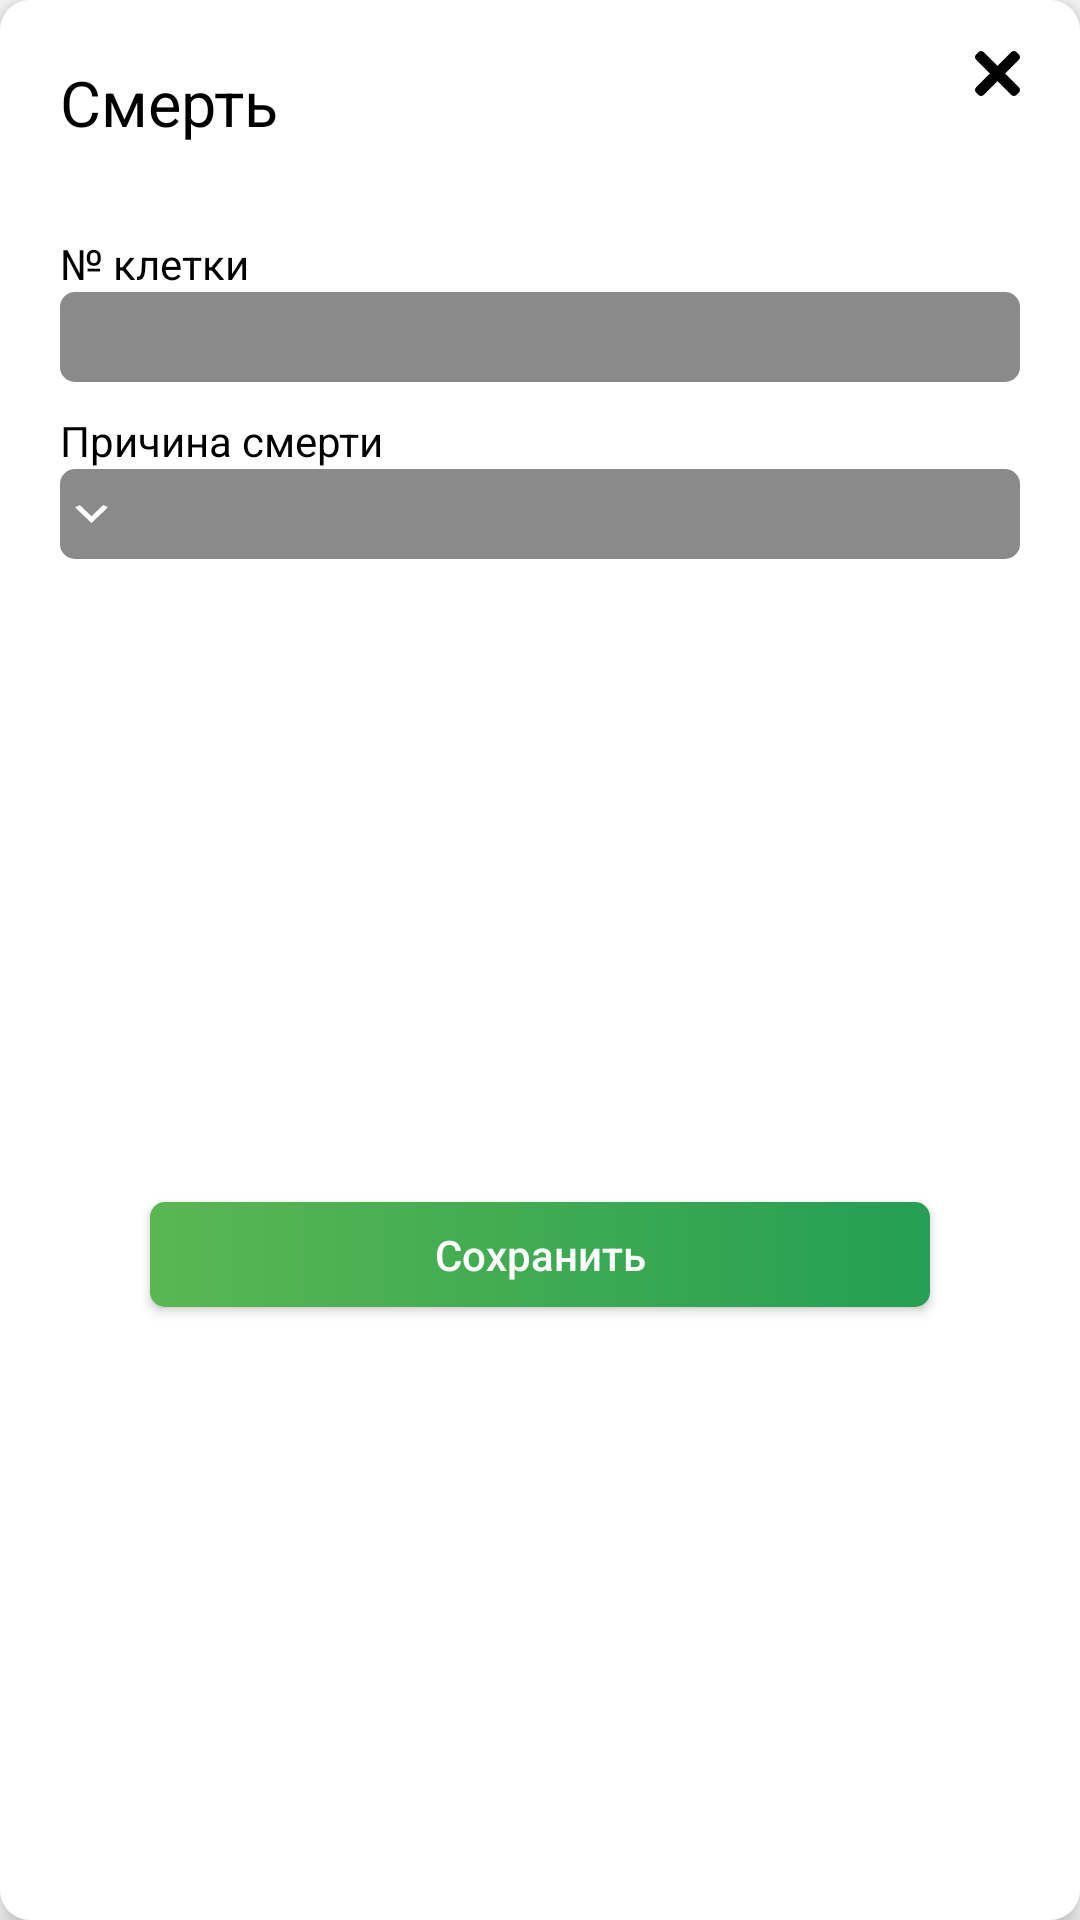

Icon click points for this 1080px x 1920px phone screenshot, format (x=x, y=y):
close menu: (x=997, y=73)
